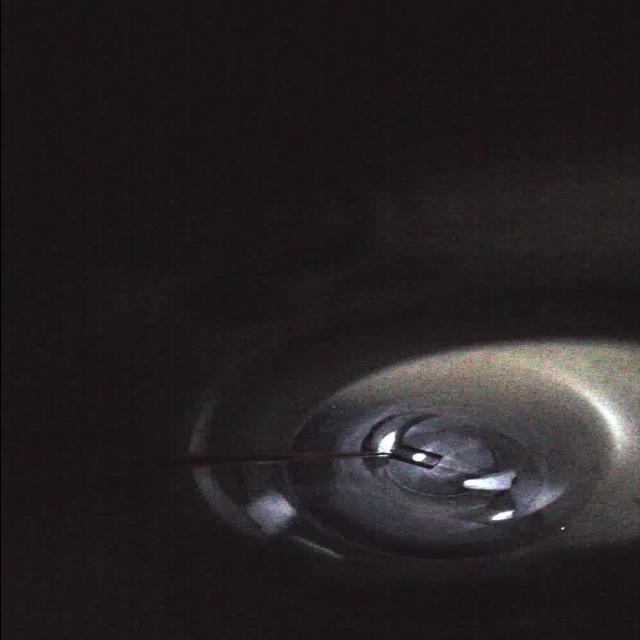impurity: (459, 463, 523, 497)
